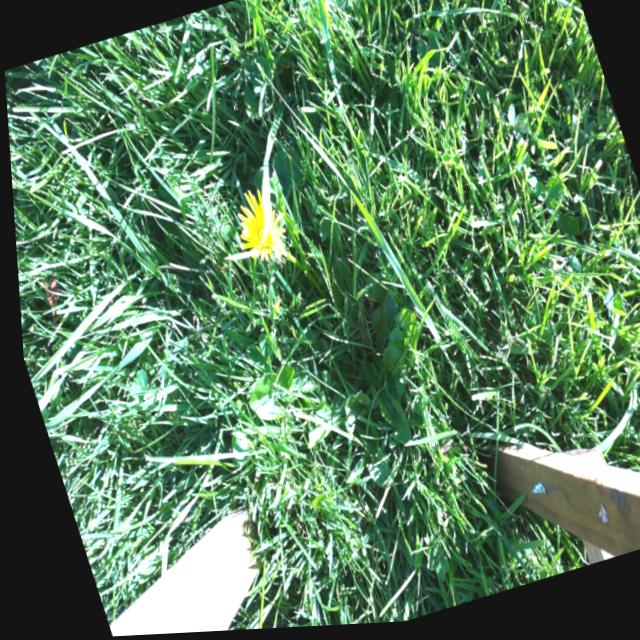flower: (220, 184, 296, 275)
